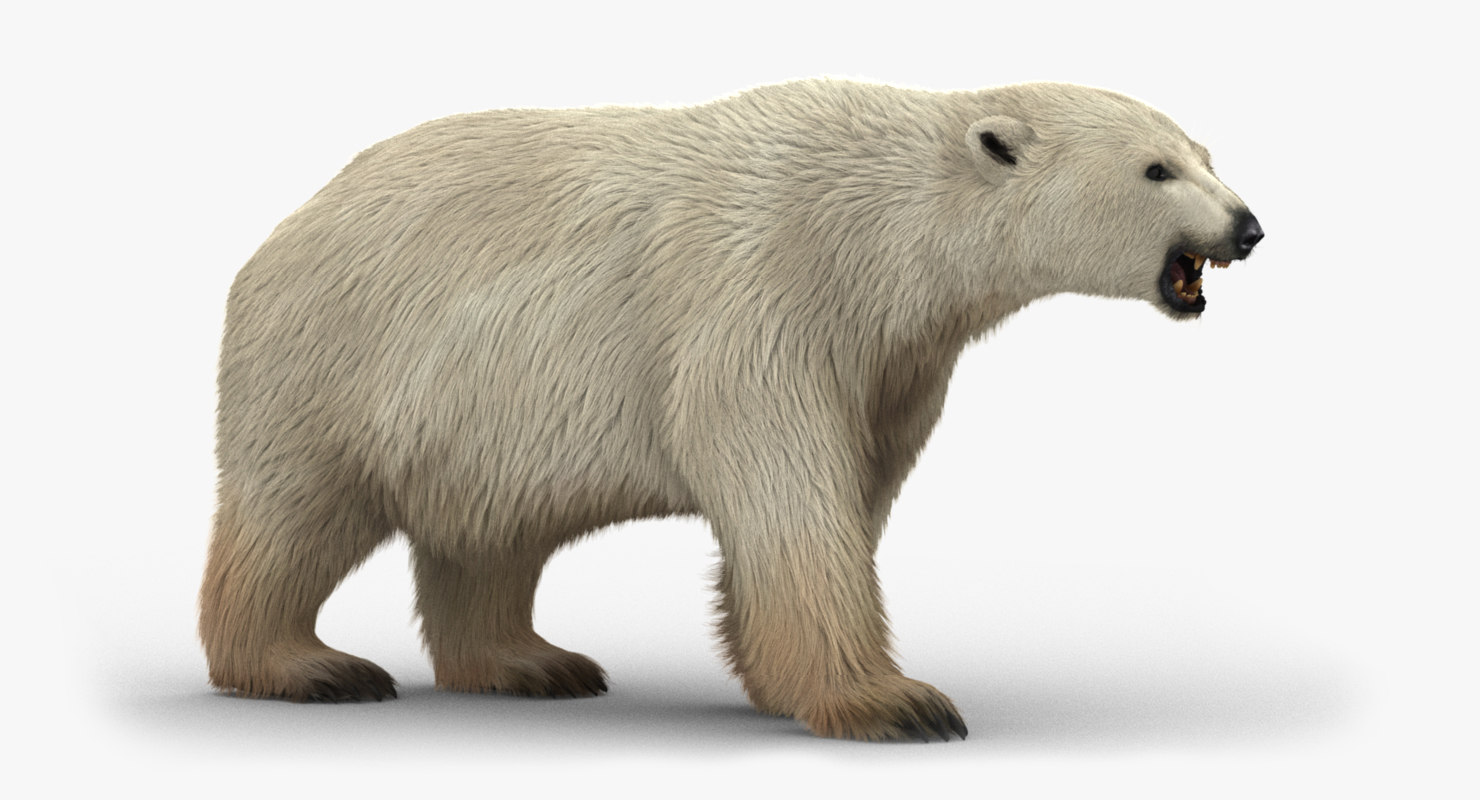Polar Bear: (174, 61, 1316, 800)
